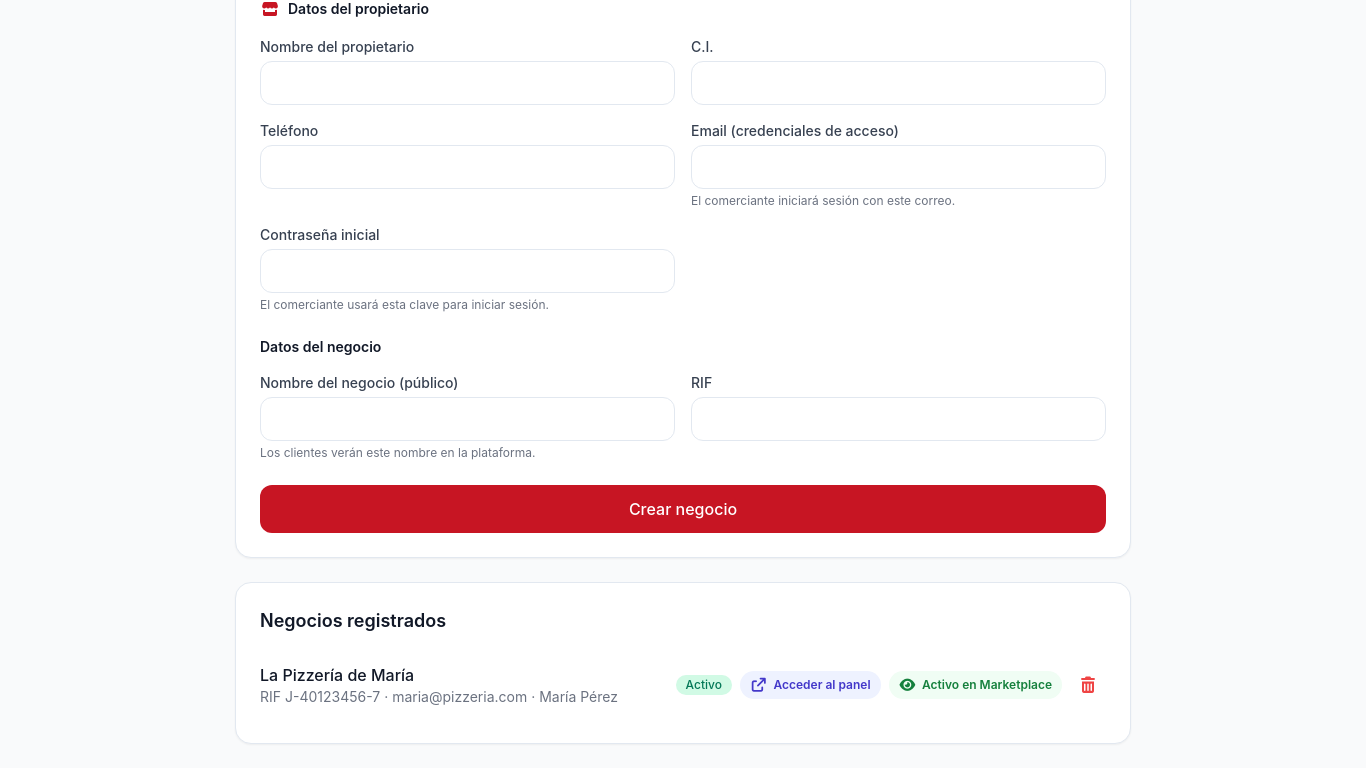
SuperAdminMerchantsPage › eliminación de comercios › muestra el modal de confirmación con el nombre del negocio al pulsar eliminar
(page scrolled)
expect the button with test id "merchant-row" is shown: met, box [260,665,1106,705]
Click the button with test id "delete-merchant".
click(1088, 685)  # box [1070,665,1106,705]
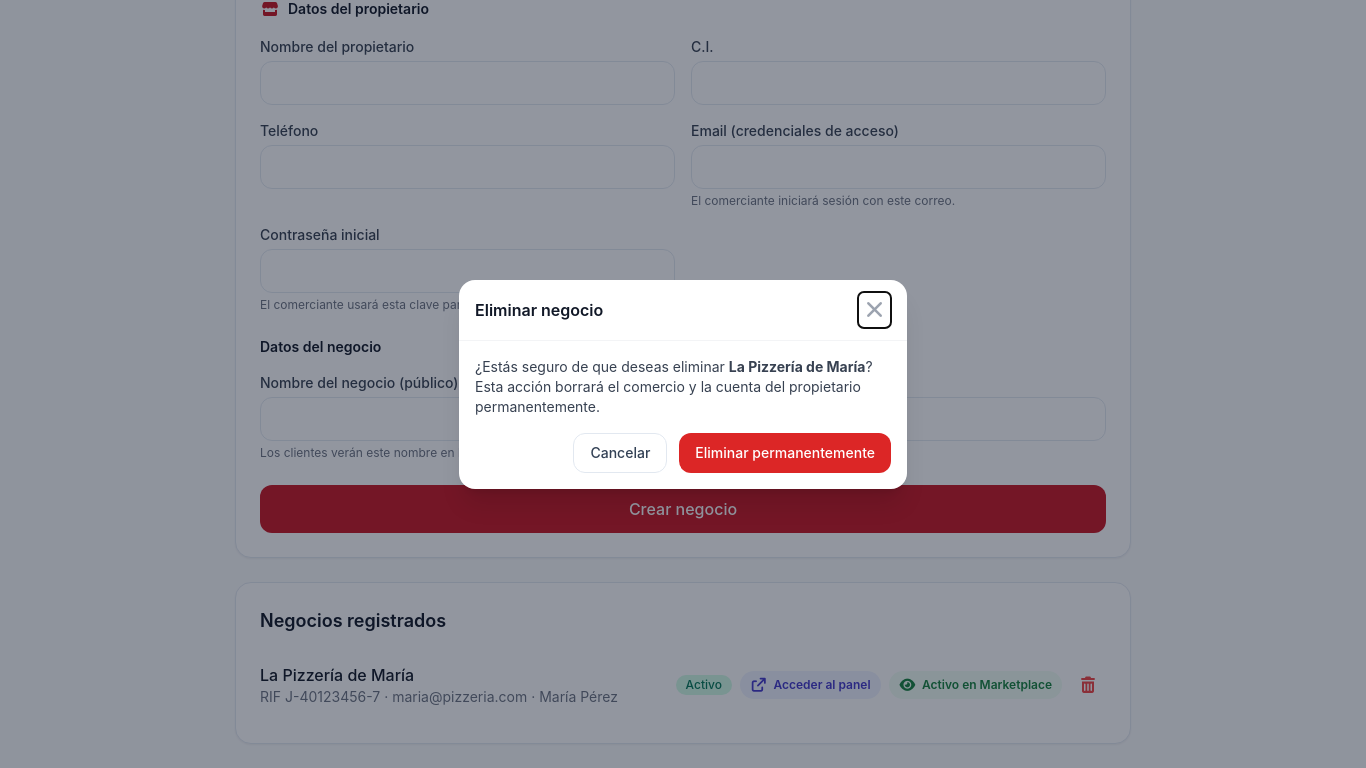
expect the element with test id "delete-confirmation-message" shows "¿Estás seguro de que deseas eliminar La Pizzería de María?": met, box [475,356,891,416]
expect the element with test id "delete-confirmation-message" shows "Esta acción borrará el comercio y la cuenta del propietario permanentemente.": met, box [475,358,873,414]
